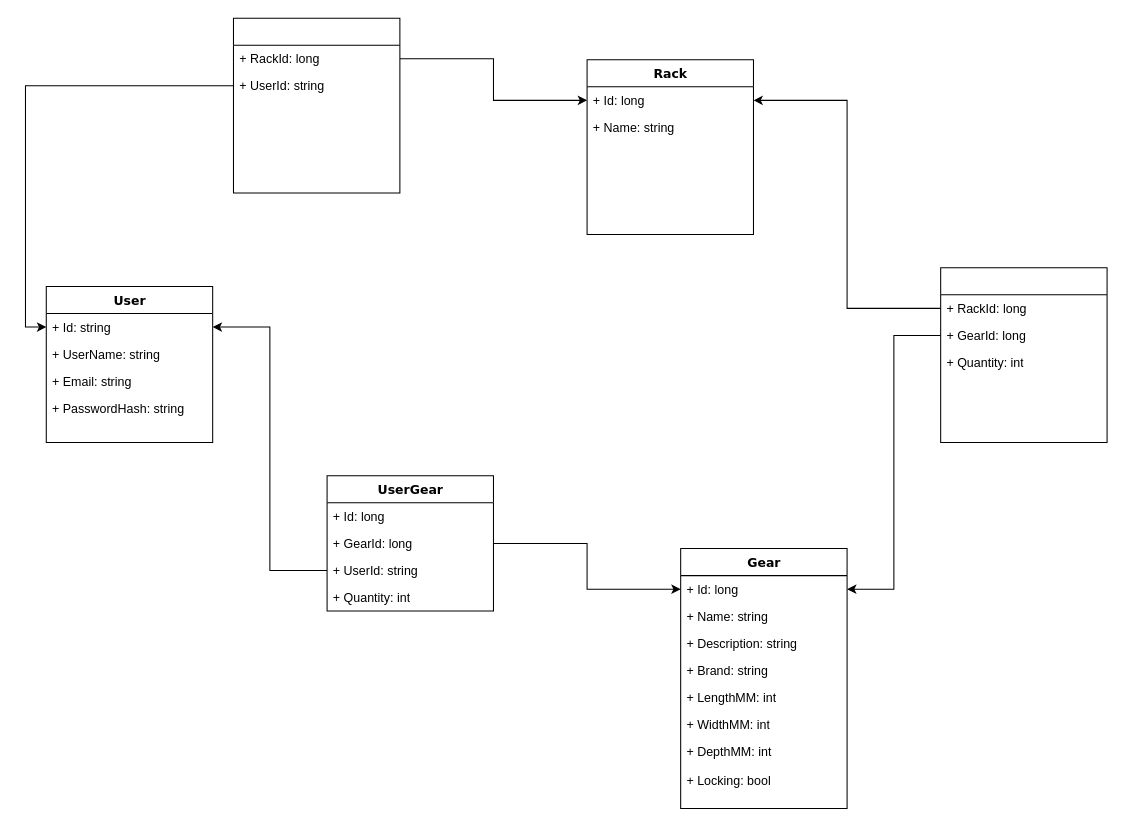
The diagram is 1125 pixels wide and 827 high, and some of its shapes have lost their labels. Each missing label, with the box of its shape:
RackGear: (940, 267, 1107, 443)
RackUsers: (232, 17, 400, 193)
